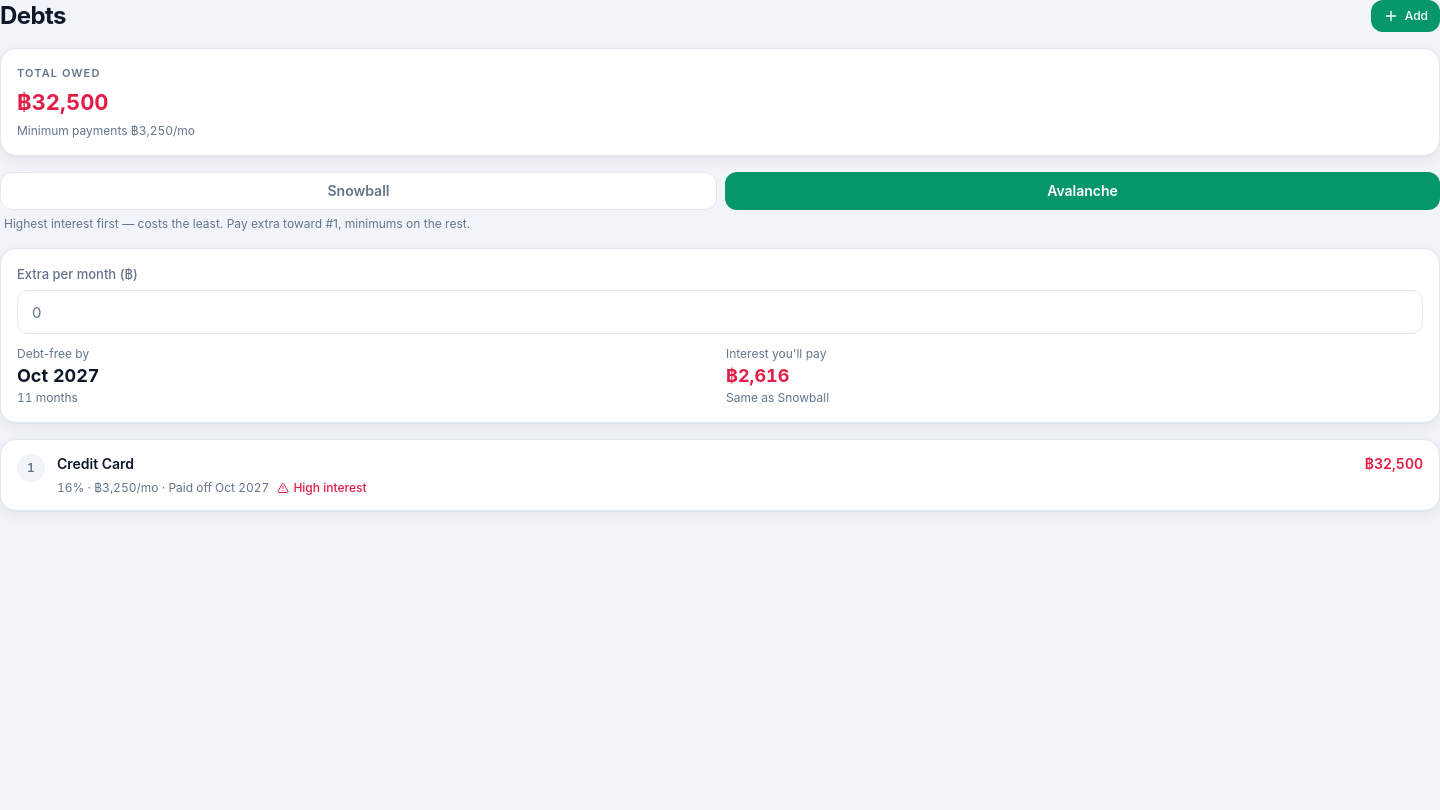
Test case: Debts page › rejects an interest rate above 100
Click the button with aria-label "edit debt credit card" at x=96, y=464, box [17,440,1423,510]
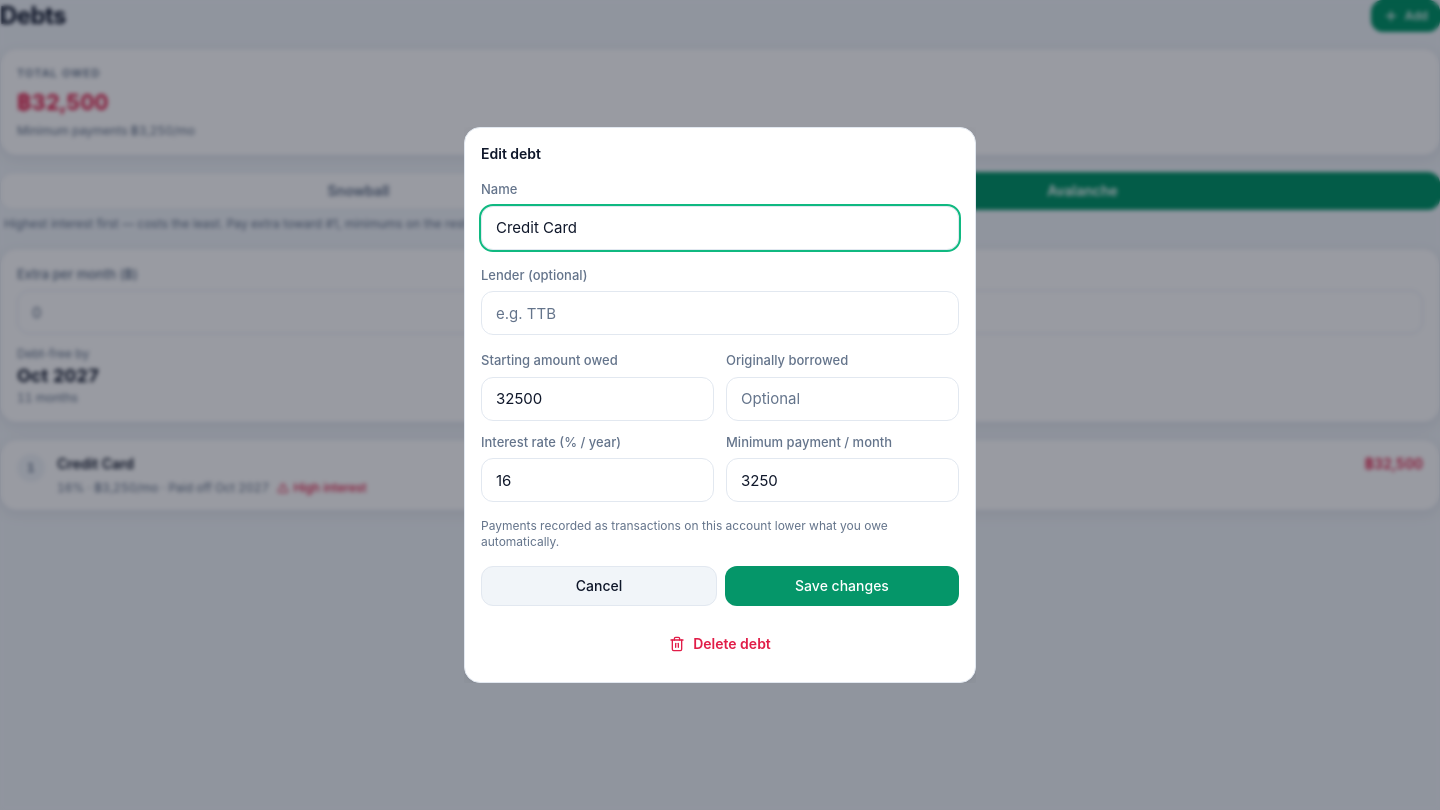
Replace the text in the field labelled "Interest rate (% / year)" with "160" at x=598, y=480, box [481,458,714,502]
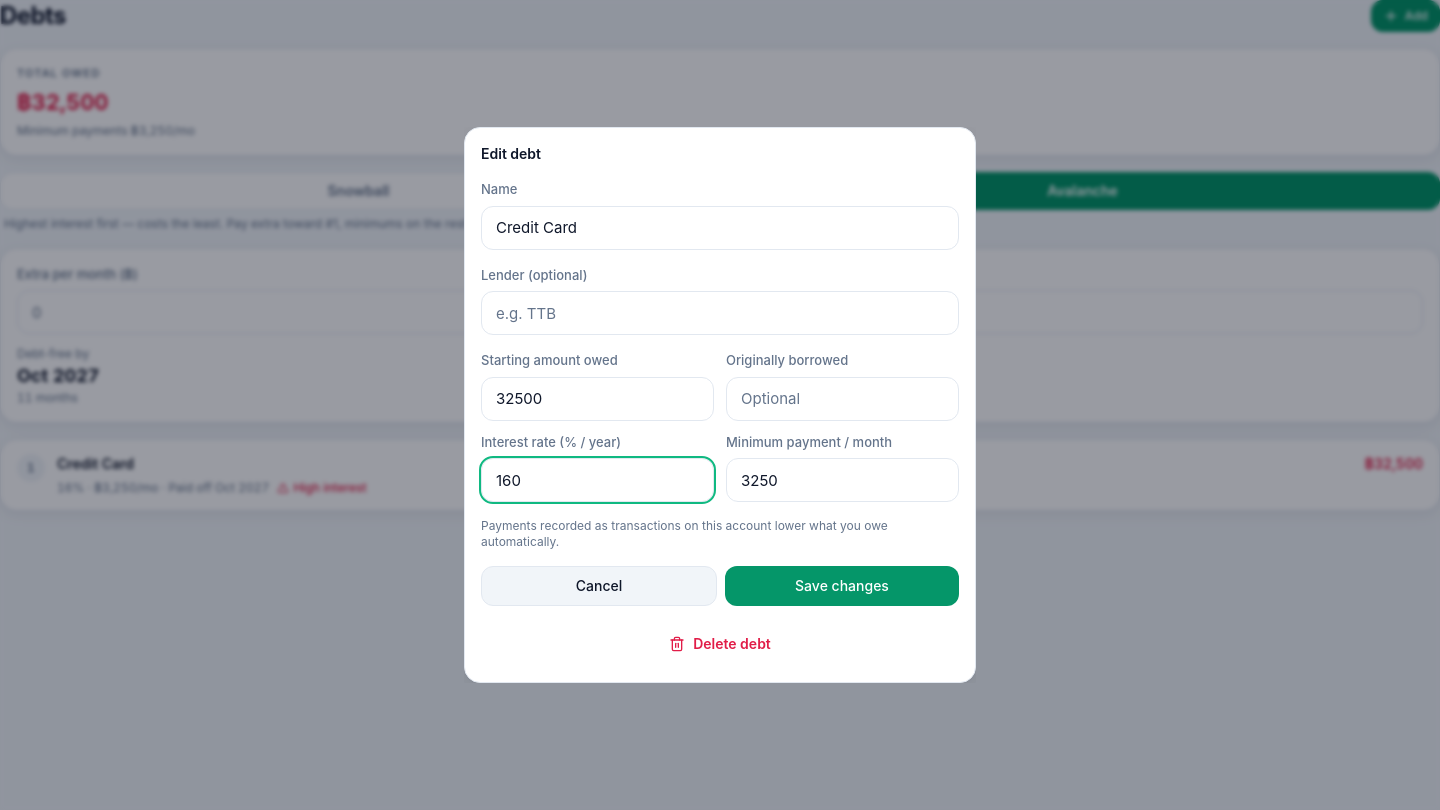
Click the button "Save changes" at x=842, y=586, box [725,566,959,606]
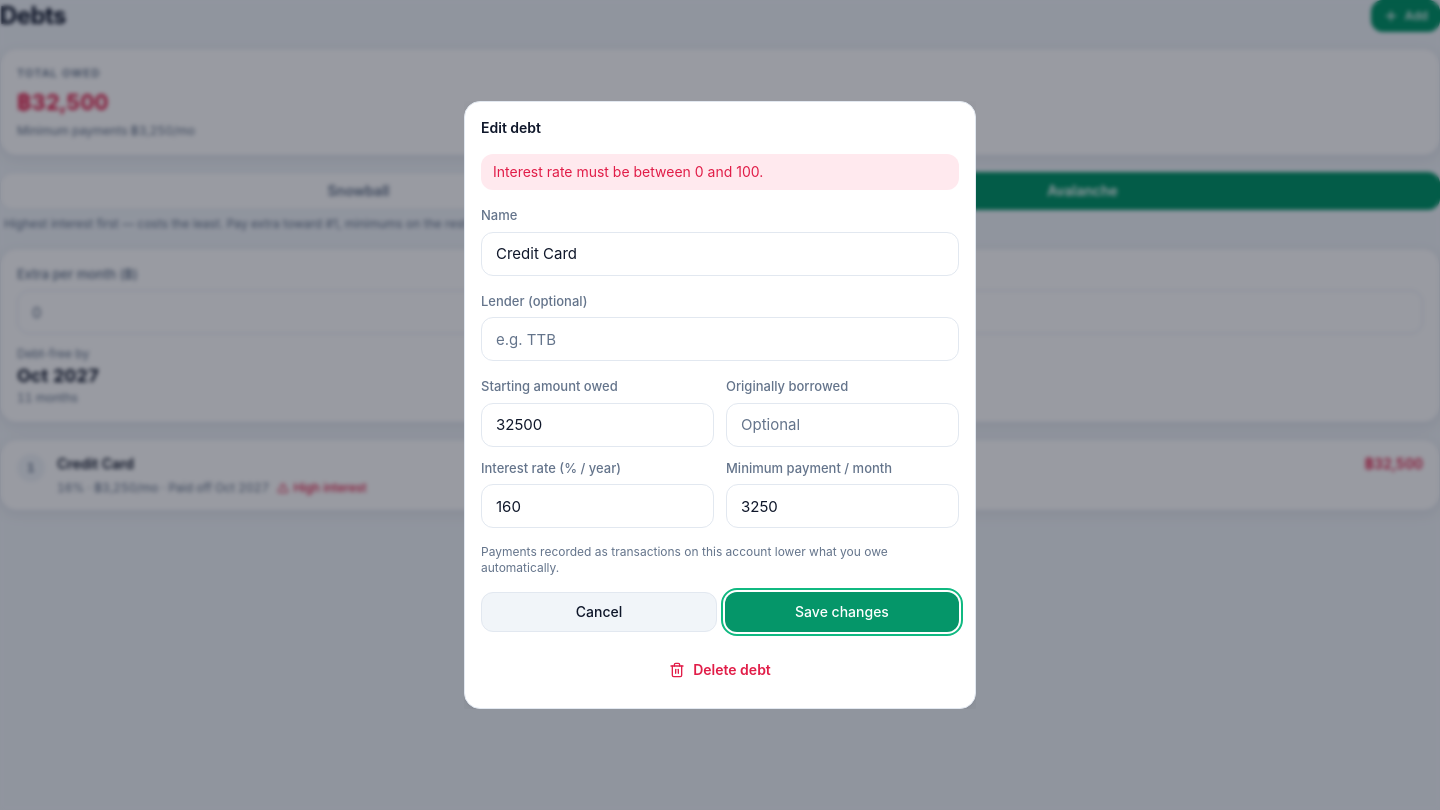
Now the message shows "between 0 and 100", box [493,163,763,180]
